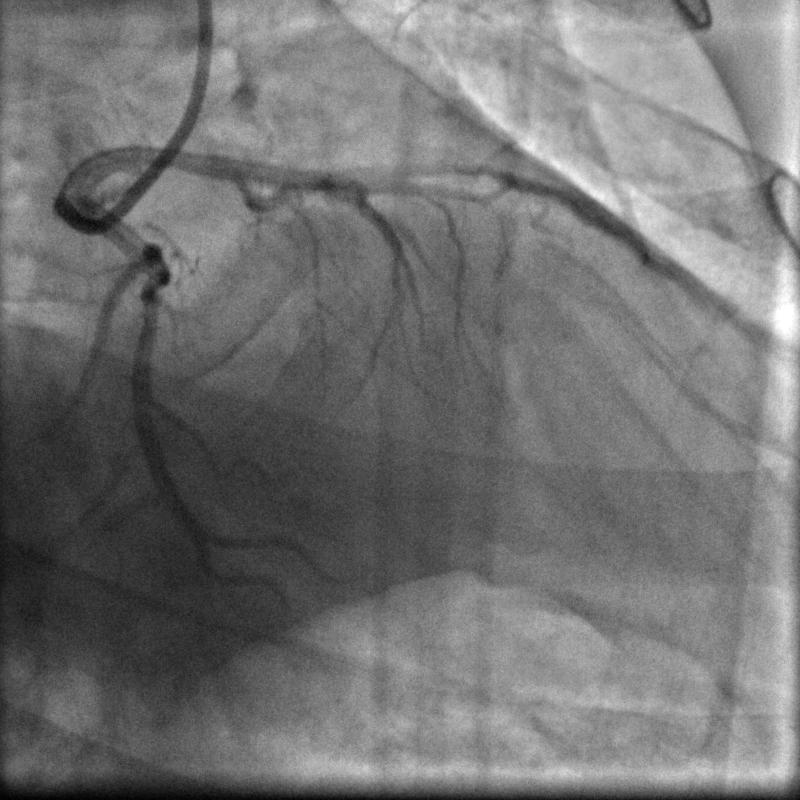Stenosis: (132, 264, 163, 328)
